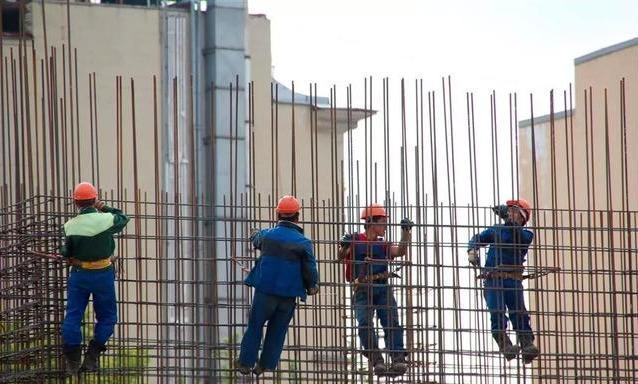helmet: (74, 180, 100, 205), (277, 196, 303, 214), (362, 204, 389, 220), (536, 198, 537, 200)
